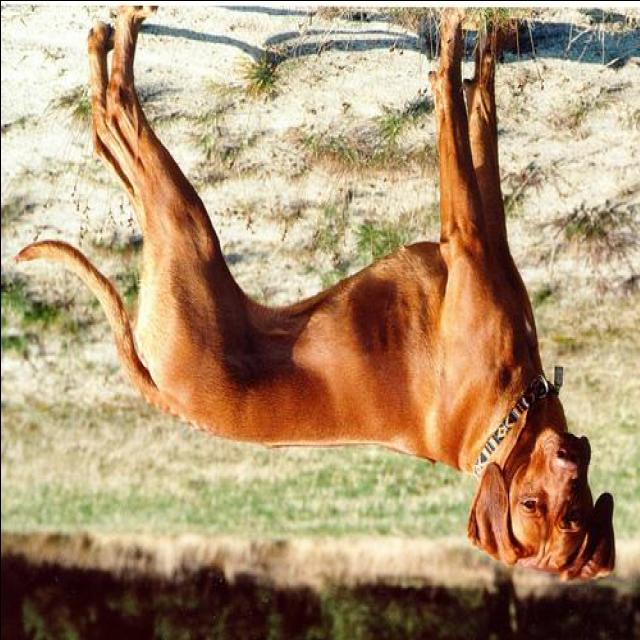rhodesian_ridgeback: (11, 9, 621, 587)
